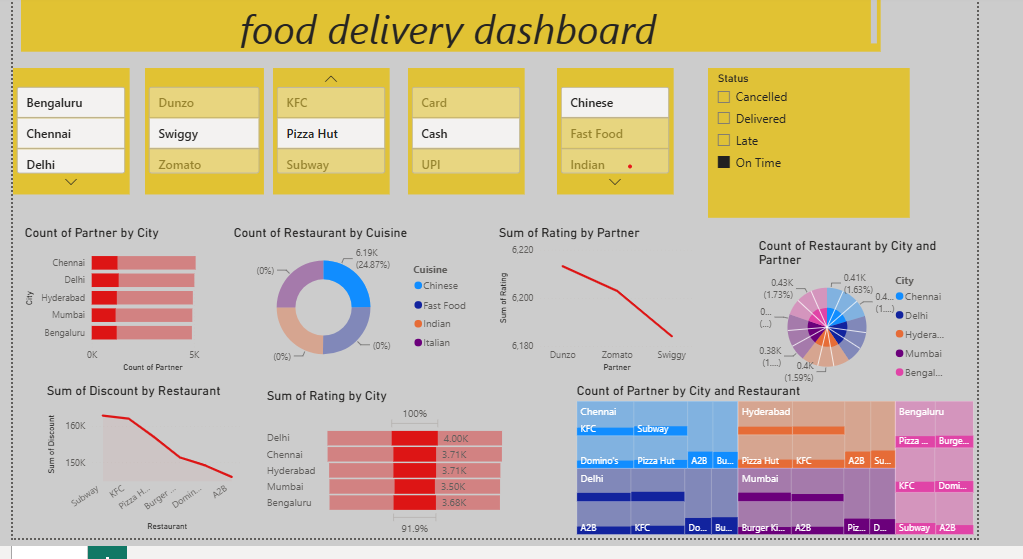

The dashboard page shown, as its layout file describes it:
{"tool":"powerbi","page":{"name":"Page 1","canvas":[1280,720],"ordinal":0},"visuals":[{"type":"textbox","box":[10.1,0,1142.3,73.9],"z":0},{"type":"cardVisual","fields":{"Rows":["FoodDelivery.City"]},"box":[0,95.7,154.5,168],"z":1000},{"type":"cardVisual","fields":{"Rows":["FoodDelivery.Partner"]},"box":[174.7,95.7,157.9,168],"z":2000},{"type":"cardVisual","fields":{"Rows":["FoodDelivery.Restaurant"]},"box":[346,95.7,154.5,168],"z":3000},{"type":"cardVisual","fields":{"Rows":["FoodDelivery.Payment"]},"box":[524.1,95.7,154.5,168],"z":4000},{"type":"cardVisual","fields":{"Rows":["FoodDelivery.Cuisine"]},"box":[722.3,95.7,154.5,168],"z":5000},{"type":"barChart","fields":{"Category":["FoodDelivery.City"],"Y":["CountNonNull(FoodDelivery.Partner)"]},"box":[10.1,304,268.8,199.9],"z":6000},{"type":"donutChart","fields":{"Series":["FoodDelivery.Cuisine"],"Y":["CountNonNull(FoodDelivery.Restaurant)"]},"box":[288.9,304,327.6,199.9],"z":7000},{"type":"lineChart","fields":{"Category":["FoodDelivery.Partner"],"Y":["Sum(FoodDelivery.Rating)"]},"box":[640,304,268.8,199.9],"z":8000},{"type":"areaChart","fields":{"Category":["FoodDelivery.Restaurant"],"Y":["Sum(FoodDelivery.Discount)"]},"box":[39.5,513.7,269.3,200.5],"z":9000},{"type":"pieChart","fields":{"Category":["FoodDelivery.City"],"Y":["CountNonNull(FoodDelivery.Restaurant)"],"Series":["FoodDelivery.Partner"]},"box":[986.3,322,269.3,199],"z":10000},{"type":"slicer","fields":{"Values":["FoodDelivery.Status"]},"box":[923.4,95.1,267.8,199],"z":11000},{"type":"funnel","fields":{"Category":["FoodDelivery.City"],"Y":["Sum(FoodDelivery.Rating)"]},"box":[332.6,520.7,327.6,199.9],"z":12000},{"type":"treemap","fields":{"Group":["FoodDelivery.City"],"Details":["FoodDelivery.Restaurant"],"Values":["CountNonNull(FoodDelivery.Partner)"]},"box":[743.4,513.7,537.1,206.3],"z":13000}]}

Visuals, with their boxes in screenshot pixels (x1, y1, x2, y2), scaled from the page's 1280x720 canvas onto the 1023x559 screenshot:
textbox: [x1=8, y1=0, x2=921, y2=57]
cardVisual - FoodDelivery.City: [x1=0, y1=74, x2=123, y2=205]
cardVisual - FoodDelivery.Partner: [x1=140, y1=74, x2=266, y2=205]
cardVisual - FoodDelivery.Restaurant: [x1=277, y1=74, x2=400, y2=205]
cardVisual - FoodDelivery.Payment: [x1=419, y1=74, x2=542, y2=205]
cardVisual - FoodDelivery.Cuisine: [x1=577, y1=74, x2=701, y2=205]
barChart - FoodDelivery.City x CountNonNull(FoodDelivery.Partner): [x1=8, y1=236, x2=223, y2=391]
donutChart - FoodDelivery.Cuisine x CountNonNull(FoodDelivery.Restaurant): [x1=231, y1=236, x2=493, y2=391]
lineChart - FoodDelivery.Partner x Sum(FoodDelivery.Rating): [x1=512, y1=236, x2=726, y2=391]
areaChart - FoodDelivery.Restaurant x Sum(FoodDelivery.Discount): [x1=32, y1=399, x2=247, y2=554]
pieChart - FoodDelivery.City x CountNonNull(FoodDelivery.Restaurant): [x1=788, y1=250, x2=1003, y2=404]
slicer - FoodDelivery.Status: [x1=738, y1=74, x2=952, y2=228]
funnel - FoodDelivery.City x Sum(FoodDelivery.Rating): [x1=266, y1=404, x2=528, y2=558]
treemap - FoodDelivery.City x FoodDelivery.Restaurant: [x1=594, y1=399, x2=1022, y2=558]
